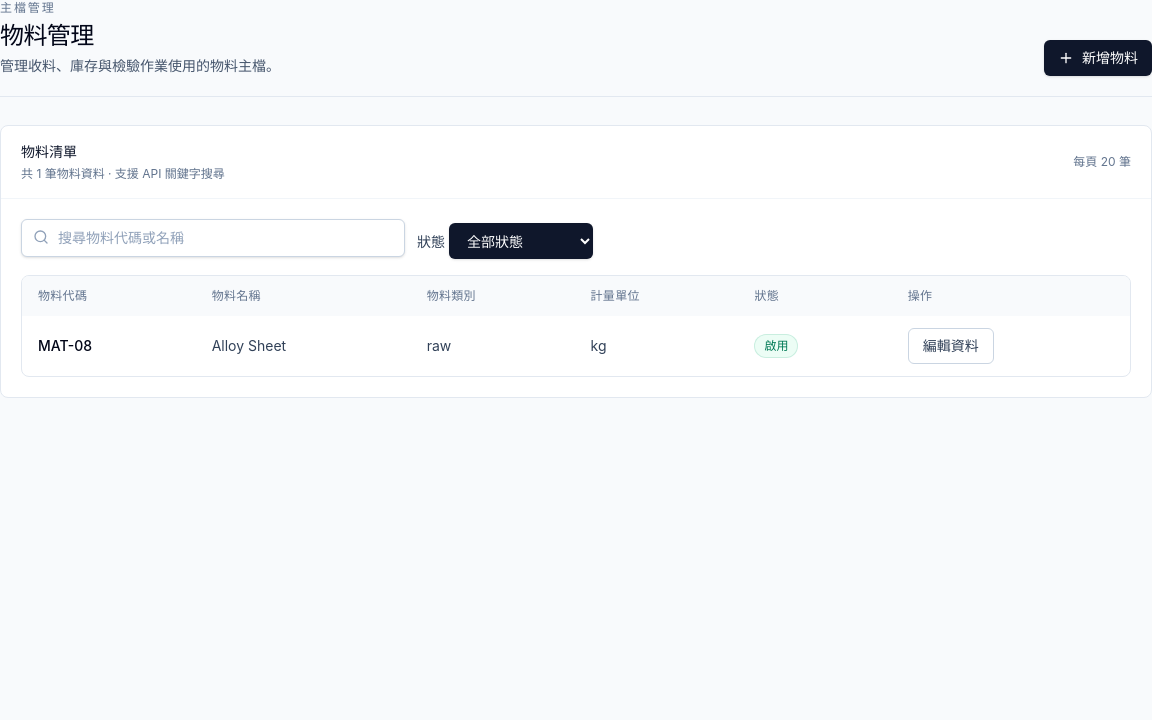
material form validation › loads correct data in edit mode
Expected: the text "Alloy Sheet" is shown, [196,316,411,376]
Click the button "編輯資料": point(951, 346) [908,328,994,364]
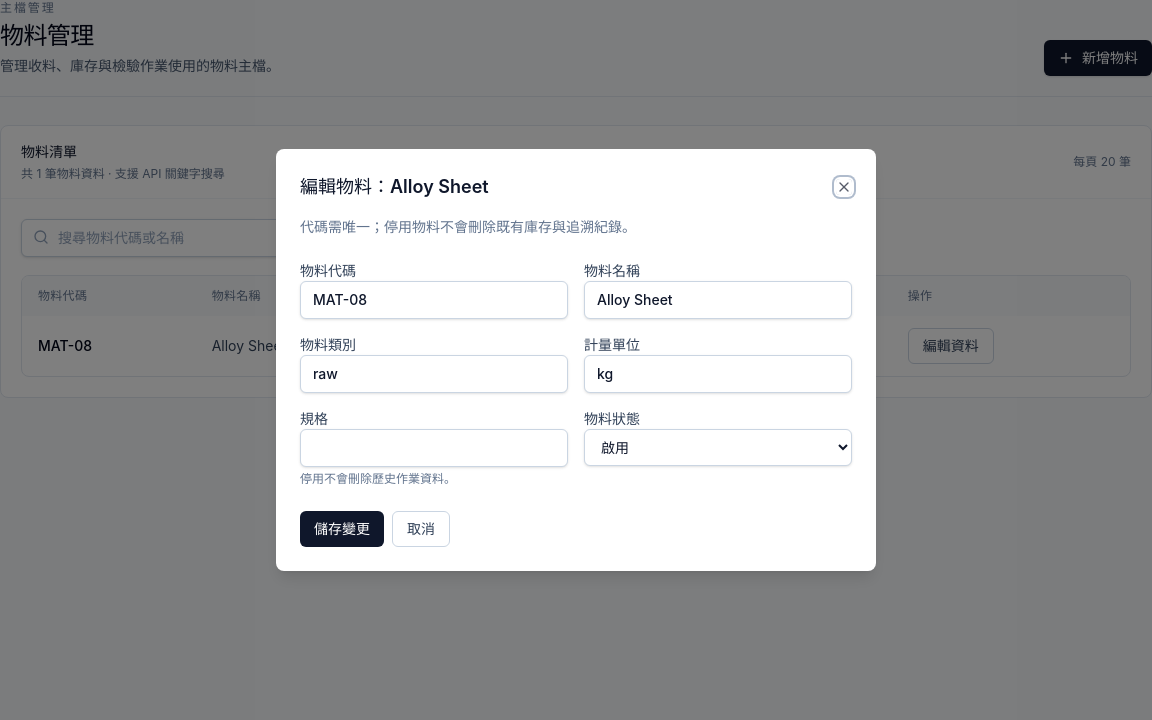
Expected: the field labelled "物料代碼" holds "MAT-08", [300,281,568,319]
Expected: the field labelled "物料名稱" holds "Alloy Sheet", [584,281,852,319]
Expected: the field labelled "物料類別" holds "raw", [300,355,568,393]
